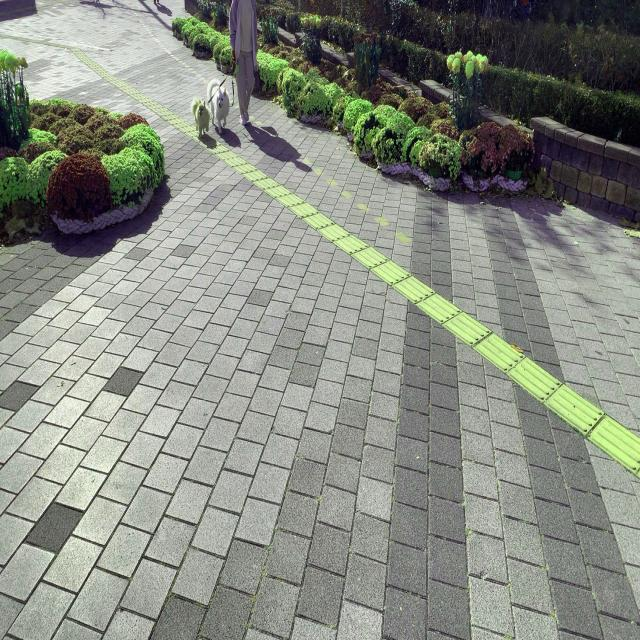Leashed_Dog: (192, 46, 246, 140), (207, 48, 250, 136)
